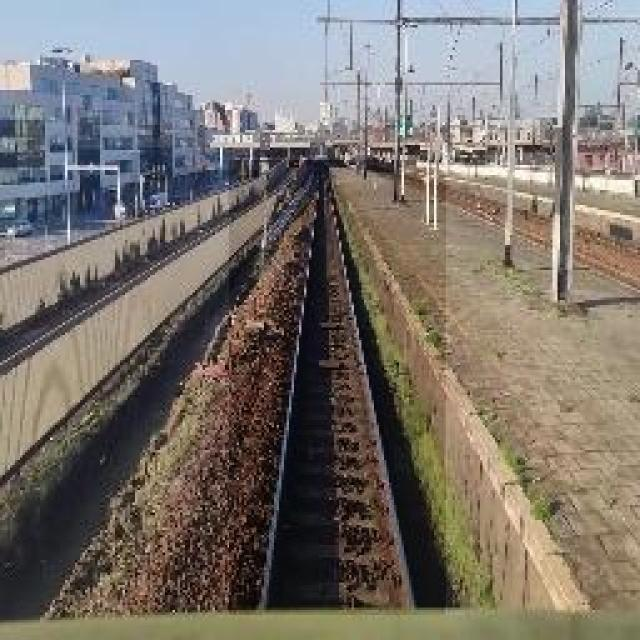rail: (231, 161, 447, 616)
